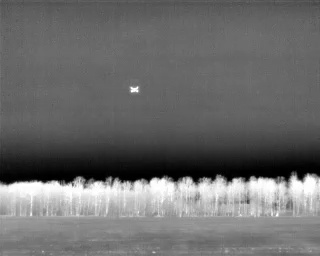DRONE: (126, 81, 143, 98)
